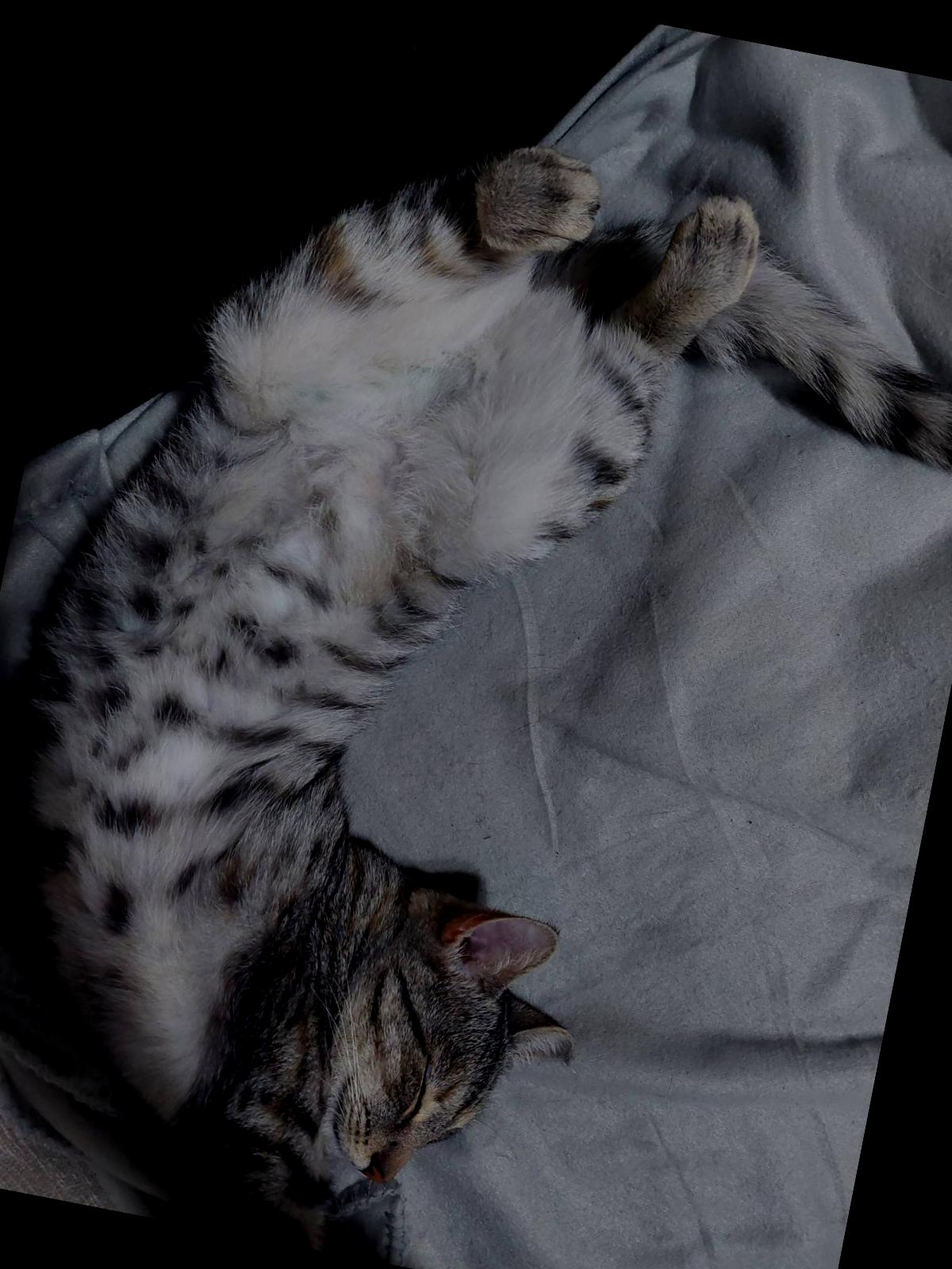macka: (0, 58, 952, 1269)
